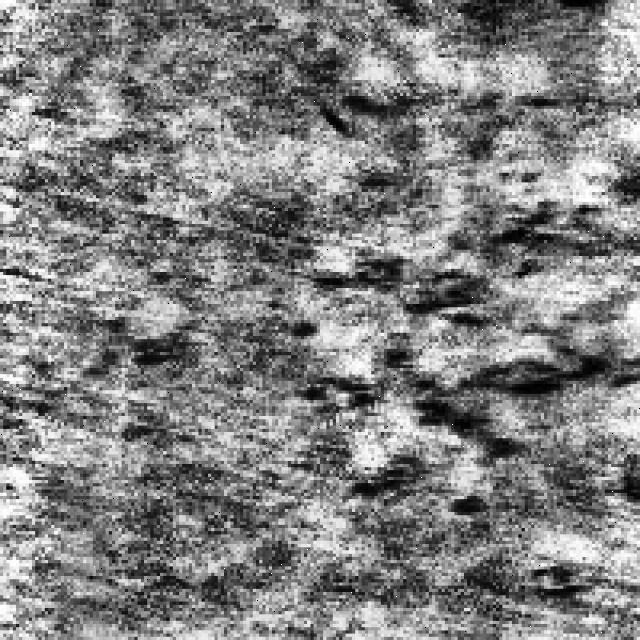Crazing: (314, 195, 640, 515), (317, 64, 557, 176)
